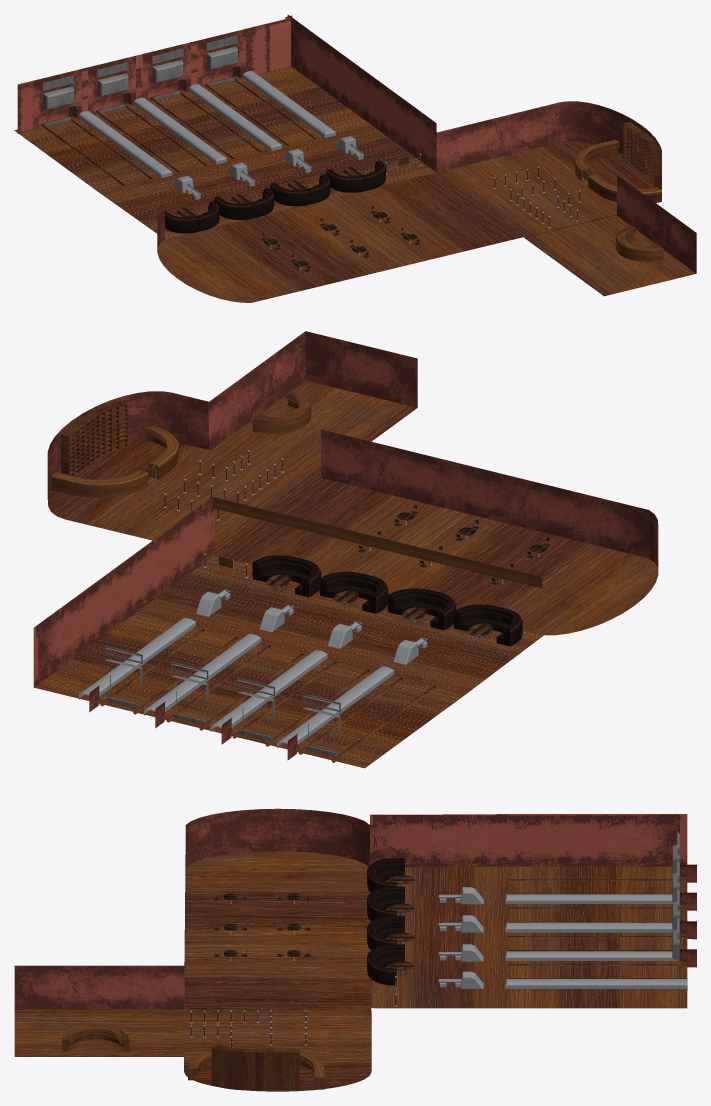
The picture shows the model from 3 angles, top to bottom: view 1: azimuth 30°, elevation 25°; view 2: azimuth 150°, elevation 25°; view 3: azimuth 270°, elevation 25°; orthographic projection. The views are drawn at different scales.
Parts seen in each view (by area): view 1: Bowling_Alley_VR:Floor5 (×2), Bowling_Alley_VR:Floor (×2), Bowling_Alley_VR:pPlane1 (×3), pPlane7, pPlane1, Bowling_Alley_VR:ShoeCase1, Bowling_Alley_VR:Lane, Bowling_Alley_VR:Lane2, Bowling_Alley_VR:Lane3, Bowling_Alley_VR:Lane1, Bowling_Alley_VR:InfoPult, Bowling_Alley_VR:pCube23 (+9 smaller); view 2: Bowling_Alley_VR:Floor5 (×2), Bowling_Alley_VR:Floor (×2), Bowling_Alley_VR:pPlane2, Bowling_Alley_VR:ShoeCase1, Bowling_Alley_VR:pCube23, Bowling_Alley_VR:Lane2, Bowling_Alley_VR:Lane, Bowling_Alley_VR:Lane1, Bowling_Alley_VR:Lane3, Bowling_Alley_VR:InfoPult, Bowling_Alley_VR:pCube21, Bowling_Alley_VR:Couch6 (+7 smaller); view 3: Bowling_Alley_VR:Floor5 (×2), Bowling_Alley_VR:Floor (×2), Bowling_Alley_VR:ShoeCase1, Bowling_Alley_VR:Lane, Bowling_Alley_VR:Lane3, Bowling_Alley_VR:Lane1, Bowling_Alley_VR:Lane2, Bowling_Alley_VR:pPlane1 (×3), Bowling_Alley_VR:InfoPult, Bowling_Alley_VR:Couch3, Couch5, Bowling_Alley_VR:Couch (+4 smaller).
Boxes of the visible parts, x1,y1,x2,y2 form: Bowling_Alley_VR:Floor5 (×2): (157,101,696,302); Bowling_Alley_VR:Floor (×2): (14,14,436,239); Bowling_Alley_VR:pPlane1 (×3): (33,29,245,128); pPlane7: (17,18,290,133); pPlane1: (88,55,135,113); Bowling_Alley_VR:ShoeCase1: (623,122,661,190); Bowling_Alley_VR:Lane: (134,97,226,164); Bowling_Alley_VR:Lane2: (79,111,172,177); Bowling_Alley_VR:Lane3: (242,71,335,137); Bowling_Alley_VR:Lane1: (189,84,281,151); Bowling_Alley_VR:InfoPult: (615,226,663,261); Bowling_Alley_VR:pCube23: (575,139,620,181); Bowling_Alley_VR:Floor5 (×2): (47,331,658,635); Bowling_Alley_VR:Floor (×2): (33,496,543,768); Bowling_Alley_VR:pPlane2: (210,496,542,588); Bowling_Alley_VR:ShoeCase1: (61,400,127,476); Bowling_Alley_VR:pCube23: (52,470,148,497); Bowling_Alley_VR:Lane2: (277,666,394,747); Bowling_Alley_VR:Lane: (210,650,327,731); Bowling_Alley_VR:Lane1: (144,634,261,715); Bowling_Alley_VR:Lane3: (79,618,195,699); Bowling_Alley_VR:InfoPult: (252,390,310,433); Bowling_Alley_VR:pCube21: (144,426,178,479); Bowling_Alley_VR:Couch6: (453,604,504,631); Bowling_Alley_VR:Floor5 (×2): (14,808,371,1091); Bowling_Alley_VR:Floor (×2): (369,814,687,1008); Bowling_Alley_VR:ShoeCase1: (211,1044,299,1090); Bowling_Alley_VR:Lane: (505,922,672,932); Bowling_Alley_VR:Lane3: (505,979,687,989); Bowling_Alley_VR:Lane1: (505,951,679,960); Bowling_Alley_VR:Lane2: (505,894,673,903); Bowling_Alley_VR:pPlane1 (×3): (672,832,696,967); Bowling_Alley_VR:InfoPult: (62,1025,129,1051); Bowling_Alley_VR:Couch3: (367,915,404,938); Couch5: (367,858,404,880); Bowling_Alley_VR:Couch: (367,944,404,967).
Bounding box in the file's own units: 46.87 × 5.5 × 55.02.
Materials: 18 (18 with a texture image).
